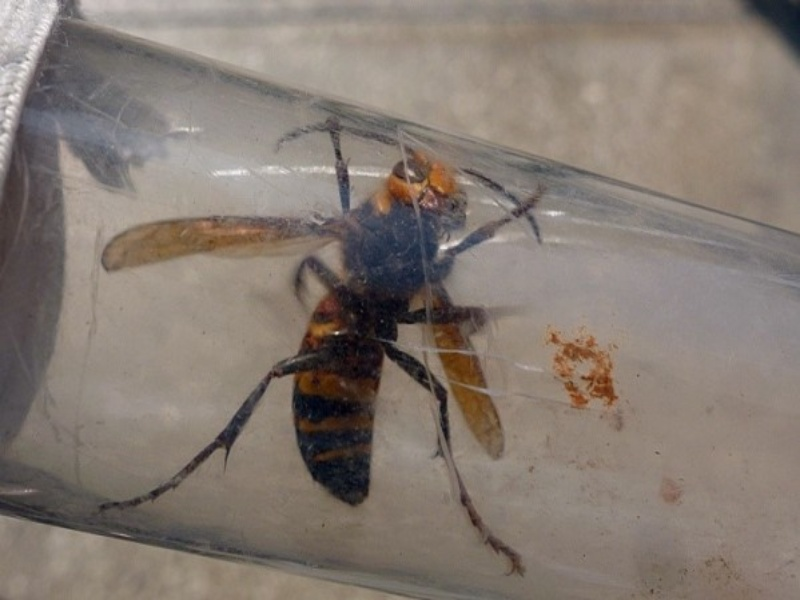asian_giant_hornet: (242, 147, 549, 510)
